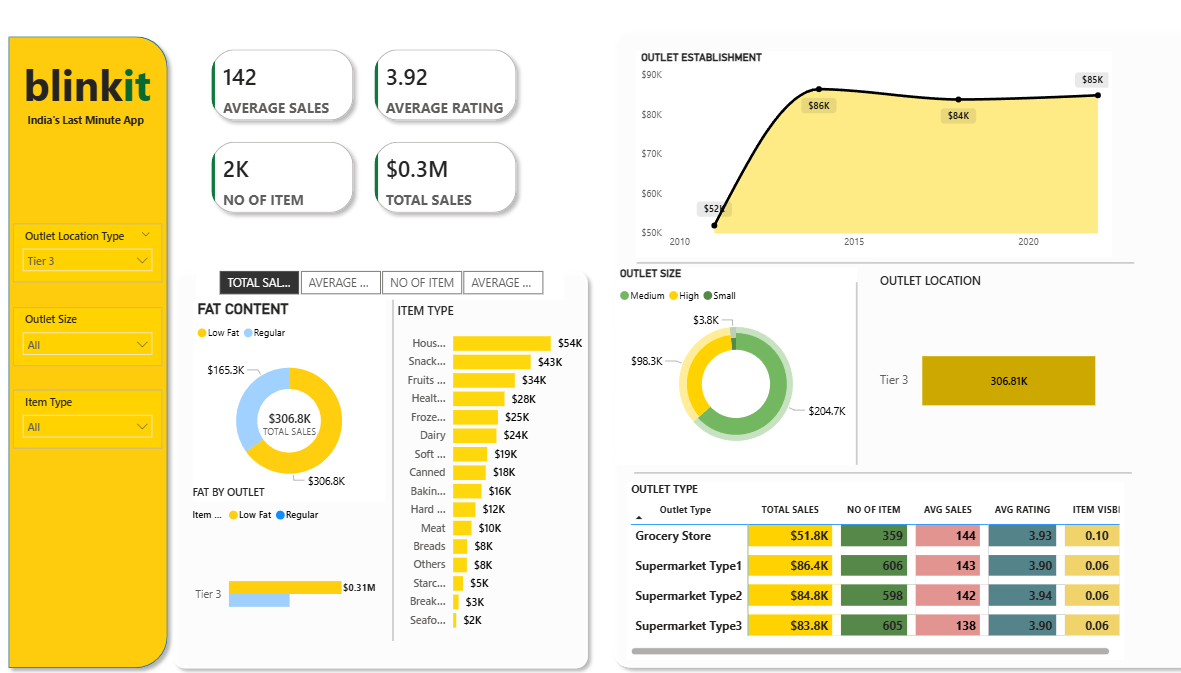

The page's visual inventory and layout, read from the dashboard file:
{"tool":"powerbi","page":{"name":"Page 1","canvas":[1400,800],"ordinal":0},"visuals":[{"type":"shape","box":[8.6,60,200,740],"z":0},{"type":"textbox","box":[27.1,85.7,161.4,78.6],"z":1000},{"type":"textbox","box":[34.3,150,148.6,28.6],"z":2000},{"type":"textbox","box":[750,0,200,700],"z":3000},{"type":"cardVisual","fields":{"Data":["BlinkIT Grocery Data.AVERAGE SALES","BlinkIT Grocery Data.AVERAGE RATING","BlinkIT Grocery Data.NO OF ITEM","BlinkIT Grocery Data.TOTAL SALES"]},"box":[233,67,382,221],"z":4000},{"type":"shape","box":[197.1,328.6,491.4,471.4],"z":5000},{"type":"slicer","fields":{"Values":["Metrics.Metrics"]},"box":[232.9,330,420,40],"z":6000},{"type":"donutChart","title":"FAT CONTENT","fields":{"Y":["BlinkIT Grocery Data.TOTAL SALES"],"Category":["BlinkIT Grocery Data.Item Fat Content"]},"box":[228.6,370,220,230],"z":7000},{"type":"cardVisual","fields":{"Data":["BlinkIT Grocery Data.TOTAL SALES"]},"box":[251.4,472.9,175.7,77.1],"z":8000},{"type":"clusteredBarChart","title":"FAT BY OUTLET","fields":{"Y":["BlinkIT Grocery Data.TOTAL SALES"],"Category":["BlinkIT Grocery Data.Outlet Location Type"],"Series":["BlinkIT Grocery Data.Item Fat Content"]},"box":[222.9,581.4,220,200],"z":9000},{"type":"shape","box":[338.6,370,237.1,390],"z":10000},{"type":"barChart","title":"ITEM TYPE","fields":{"Y":["BlinkIT Grocery Data.TOTAL SALES"],"Category":["BlinkIT Grocery Data.Item Type"]},"box":[457.1,372.9,222.9,385.7],"z":11000},{"type":"shape","box":[700,52,686,748],"z":12000},{"type":"lineChart","title":"OUTLET ESTABLISHMENT","fields":{"Y":["BlinkIT Grocery Data.TOTAL SALES"],"Category":["BlinkIT Grocery Data.Outlet Establishment Year"]},"box":[735.7,85.7,544.3,235.7],"z":13000},{"type":"donutChart","title":"OUTLET SIZE","fields":{"Y":["BlinkIT Grocery Data.TOTAL SALES"],"Category":["BlinkIT Grocery Data.Outlet Size"]},"box":[711.4,332.9,275.7,225.7],"z":14000},{"type":"shape","box":[735.7,132.9,568.6,390],"z":15000},{"type":"shape","box":[868.6,350,237.1,208.6],"z":16000},{"type":"funnel","title":"OUTLET LOCATION","fields":{"Y":["Sum(BlinkIT Grocery Data.Sales)"],"Category":["BlinkIT Grocery Data.Outlet Location Type"]},"box":[1008.6,338.6,261.4,230],"z":17000},{"type":"shape","box":[732.9,372.9,568.6,390],"z":18000},{"type":"pivotTable","title":"OUTLET TYPE","fields":{"Rows":["BlinkIT Grocery Data.Outlet Type"],"Values":["BlinkIT Grocery Data.TOTAL SALES","BlinkIT Grocery Data.NO OF ITEM","BlinkIT Grocery Data.AVERAGE SALES","BlinkIT Grocery Data.AVERAGE RATING","Avg(BlinkIT Grocery Data.Item Visibility)"]},"box":[724.3,578.6,568.6,202.9],"z":19000},{"type":"slicer","fields":{"Values":["BlinkIT Grocery Data.Outlet Location Type"]},"box":[22.9,282.9,170,67.1],"z":20000},{"type":"slicer","fields":{"Values":["BlinkIT Grocery Data.Outlet Size"]},"box":[22.9,378.6,170,67.1],"z":21000},{"type":"slicer","fields":{"Values":["BlinkIT Grocery Data.Item Type"]},"box":[22.9,472.9,170,67.1],"z":22000}]}

Visuals, with their boxes in screenshot pixels (x1, y1, x2, y2), scaled from the page's 1400x800 canvas onto the 1181x673 screenshot:
shape: (left=7, top=50, right=176, bottom=672)
textbox: (left=23, top=72, right=159, bottom=138)
textbox: (left=29, top=126, right=154, bottom=150)
textbox: (left=633, top=0, right=801, bottom=589)
cardVisual - BlinkIT Grocery Data.AVERAGE SALES x BlinkIT Grocery Data.AVERAGE RATING: (left=197, top=56, right=519, bottom=242)
shape: (left=166, top=276, right=581, bottom=672)
slicer - Metrics.Metrics: (left=196, top=278, right=551, bottom=311)
"FAT CONTENT" donutChart: (left=193, top=311, right=378, bottom=505)
cardVisual - BlinkIT Grocery Data.TOTAL SALES: (left=212, top=398, right=360, bottom=463)
"FAT BY OUTLET" clusteredBarChart: (left=188, top=489, right=374, bottom=657)
shape: (left=286, top=311, right=486, bottom=639)
"ITEM TYPE" barChart: (left=386, top=314, right=574, bottom=638)
shape: (left=590, top=44, right=1169, bottom=672)
"OUTLET ESTABLISHMENT" lineChart: (left=621, top=72, right=1080, bottom=270)
"OUTLET SIZE" donutChart: (left=600, top=280, right=833, bottom=470)
shape: (left=621, top=112, right=1100, bottom=440)
shape: (left=733, top=294, right=933, bottom=470)
"OUTLET LOCATION" funnel: (left=851, top=285, right=1071, bottom=478)
shape: (left=618, top=314, right=1098, bottom=642)
"OUTLET TYPE" pivotTable: (left=611, top=487, right=1091, bottom=657)
slicer - BlinkIT Grocery Data.Outlet Location Type: (left=19, top=238, right=163, bottom=294)
slicer - BlinkIT Grocery Data.Outlet Size: (left=19, top=318, right=163, bottom=375)
slicer - BlinkIT Grocery Data.Item Type: (left=19, top=398, right=163, bottom=454)
